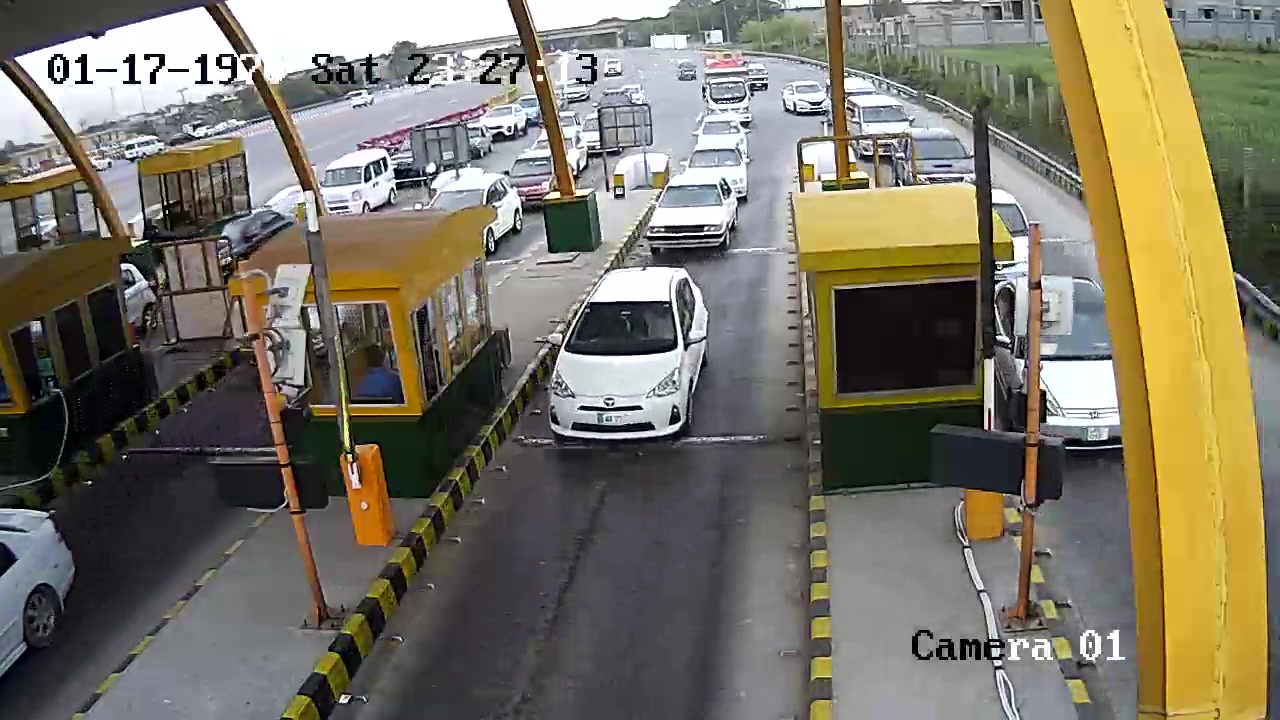F1: (544, 262, 726, 457)
